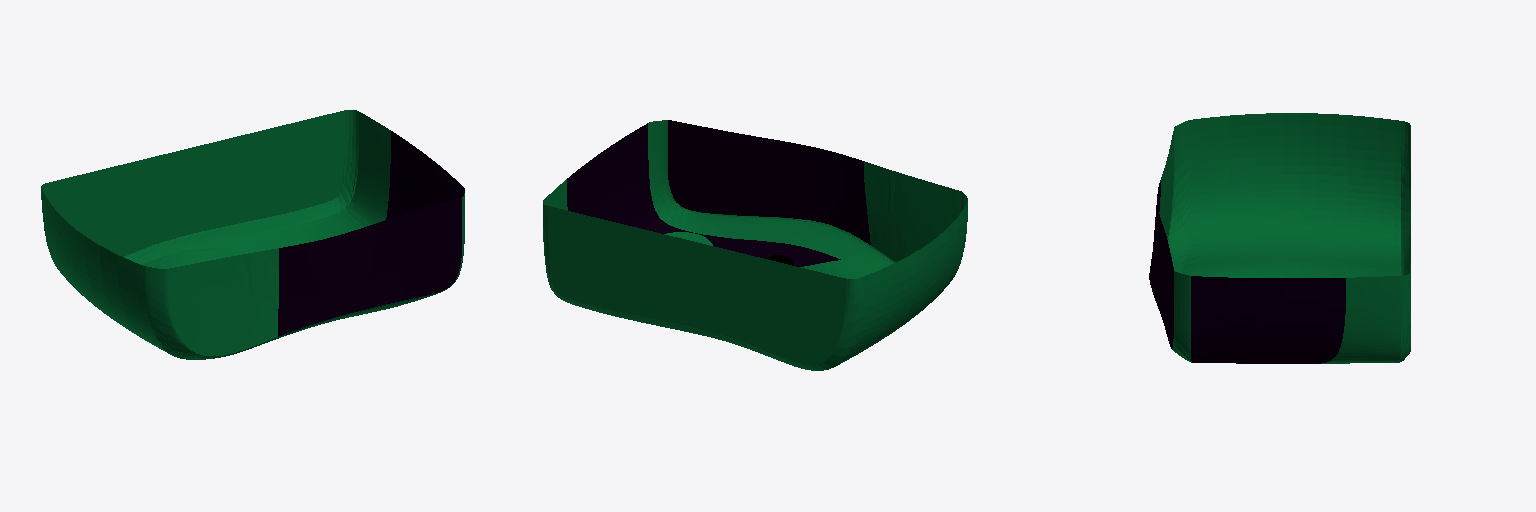
The model's file is newtim.obj.
3 views of the same model, side by side, from view 1: azimuth 30°, elevation 25°; view 2: azimuth 150°, elevation 25°; view 3: azimuth 270°, elevation 25° (orthographic).
Parts seen in each view (by area): view 1: LOWER-BODY, UPGRIP, MAIN-BODY, UPPER-BODY, SNAPBUTTON; view 2: LOWER-BODY, UPGRIP, UPPER-BODY, MAIN-BODY, SNAPBUTTON; view 3: MAIN-BODY, UPGRIP, UPPER-BODY, LOWER-BODY.
Boxes of the visible parts, box(x1,y1,x2,y2) form: LOWER-BODY: box(47, 110, 358, 261); UPGRIP: box(278, 131, 464, 336); MAIN-BODY: box(41, 112, 390, 354); UPPER-BODY: box(145, 193, 464, 359); SNAPBUTTON: box(189, 283, 234, 328); LOWER-BODY: box(543, 200, 846, 364); UPGRIP: box(567, 120, 870, 266); UPPER-BODY: box(648, 120, 967, 272); MAIN-BODY: box(544, 179, 967, 370); SNAPBUTTON: box(903, 201, 943, 246); MAIN-BODY: box(1181, 113, 1410, 363); UPGRIP: box(1149, 180, 1345, 363); UPPER-BODY: box(1159, 120, 1191, 362); LOWER-BODY: box(1401, 266, 1410, 361).
Bounding box in the file's own units: 78.39 × 26.74 × 52.36.